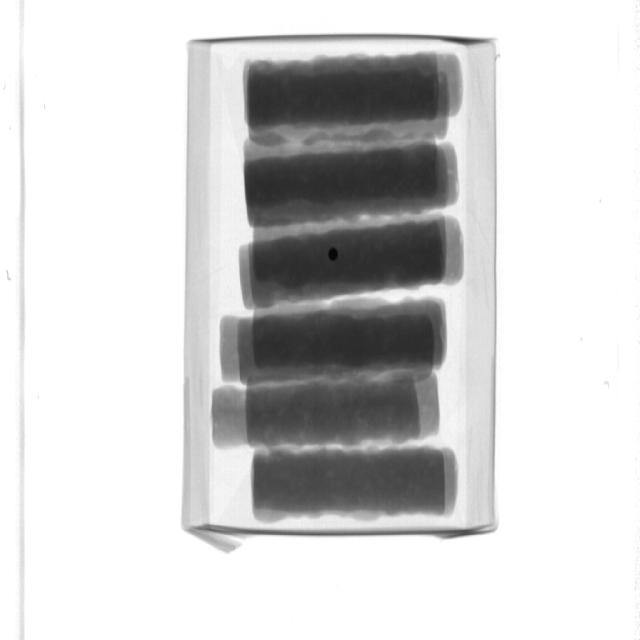ym: (329, 249, 339, 262)
